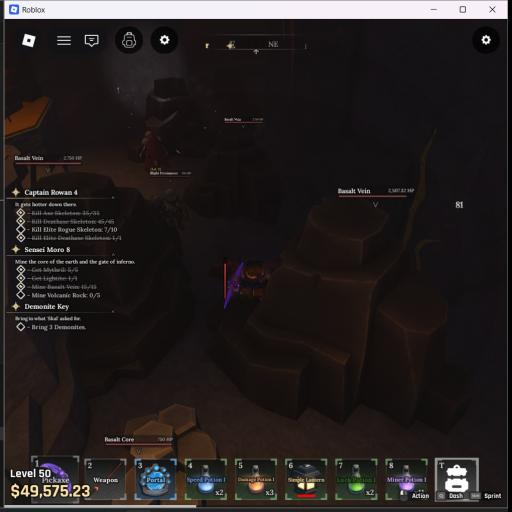player: (224, 260, 268, 308)
rock: (207, 195, 472, 432), (38, 171, 194, 397), (185, 127, 282, 222), (146, 78, 200, 149)
